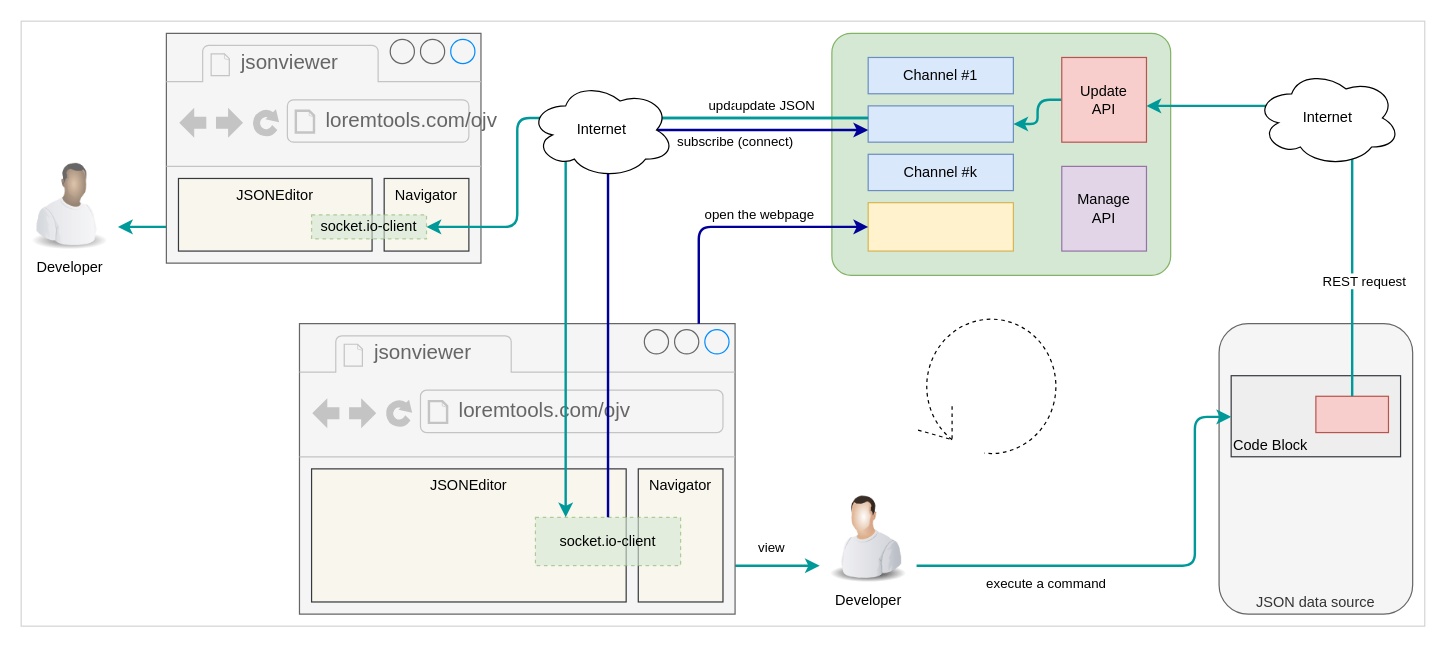
Some shapes in this 1446 by 647 pixel diagram are drawn without their labels. Each missing label, with the centre of its shape:
"Channel #2" goes at pixel 940 123.
"static webpages" goes at pixel 940 226.
"UrlFetch" goes at pixel 1351 414.
